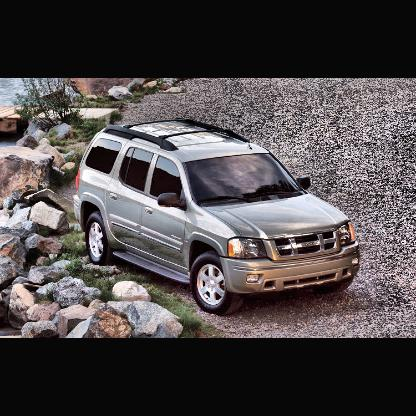Isuzu Ascender SUV 2008: (73, 119, 364, 311)
